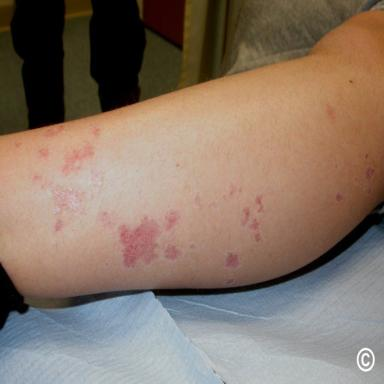Porokeratosis: (32, 175, 87, 216), (119, 216, 162, 268), (61, 142, 94, 175), (163, 210, 181, 231), (97, 211, 119, 228), (353, 176, 372, 195), (43, 124, 65, 138), (163, 243, 179, 260), (225, 252, 241, 269), (90, 172, 102, 193), (254, 194, 265, 213), (252, 219, 261, 242), (241, 206, 251, 224), (229, 183, 241, 197), (365, 167, 376, 180), (325, 105, 335, 119), (193, 194, 202, 209), (54, 219, 63, 232), (38, 148, 49, 158), (210, 200, 220, 210), (91, 127, 101, 137), (335, 191, 343, 203), (189, 242, 198, 252), (13, 142, 23, 148), (364, 151, 371, 159), (226, 279, 234, 284), (334, 163, 338, 170)
